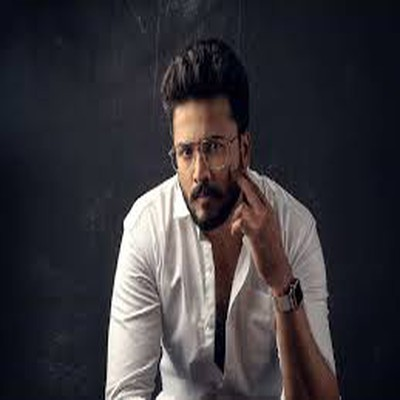eywear: (167, 124, 260, 184)
